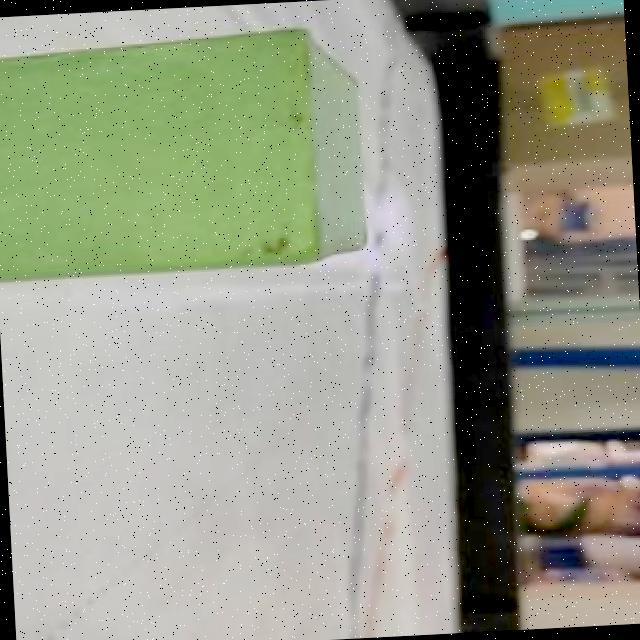greenbox: (0, 20, 377, 286)
